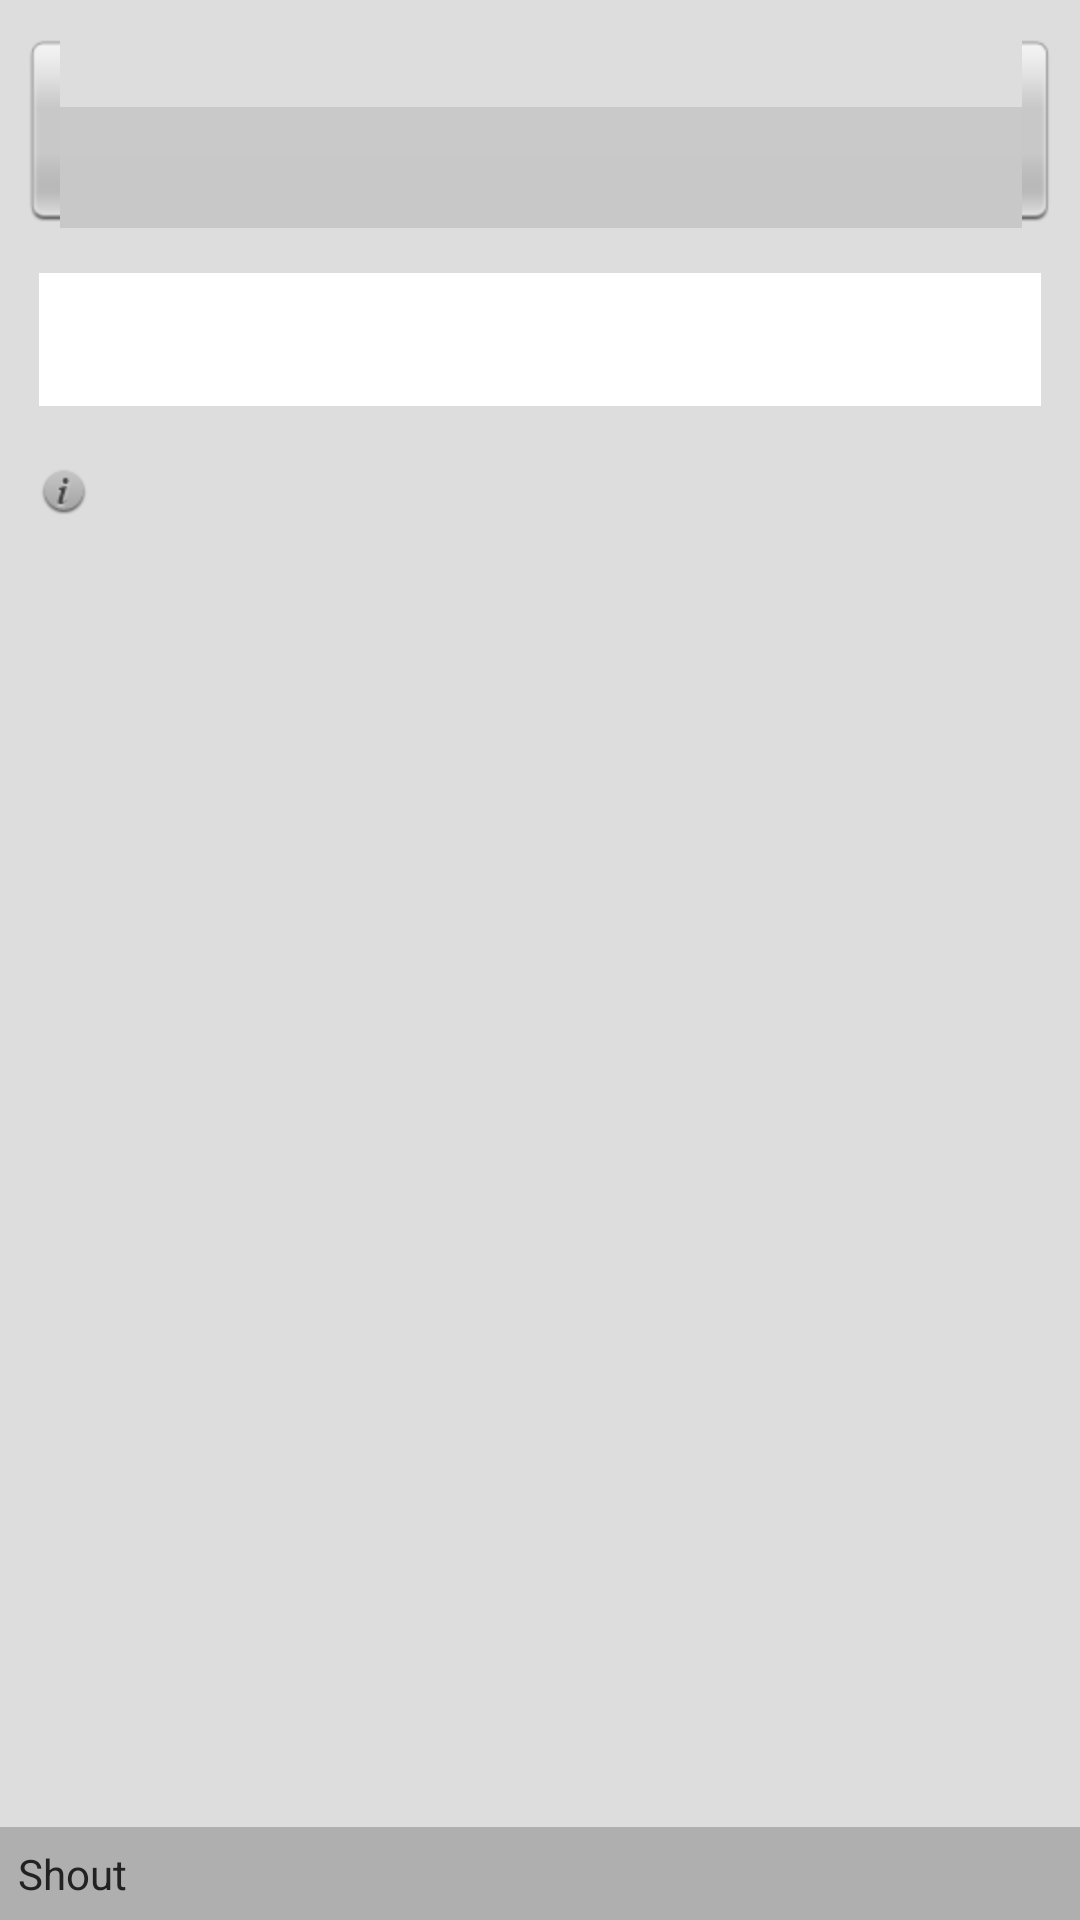

Locate icon controls on the screen. Image size 1080 x 1920, boxes as (x1, y1, x2, y2).
info: (43, 471, 85, 514)
